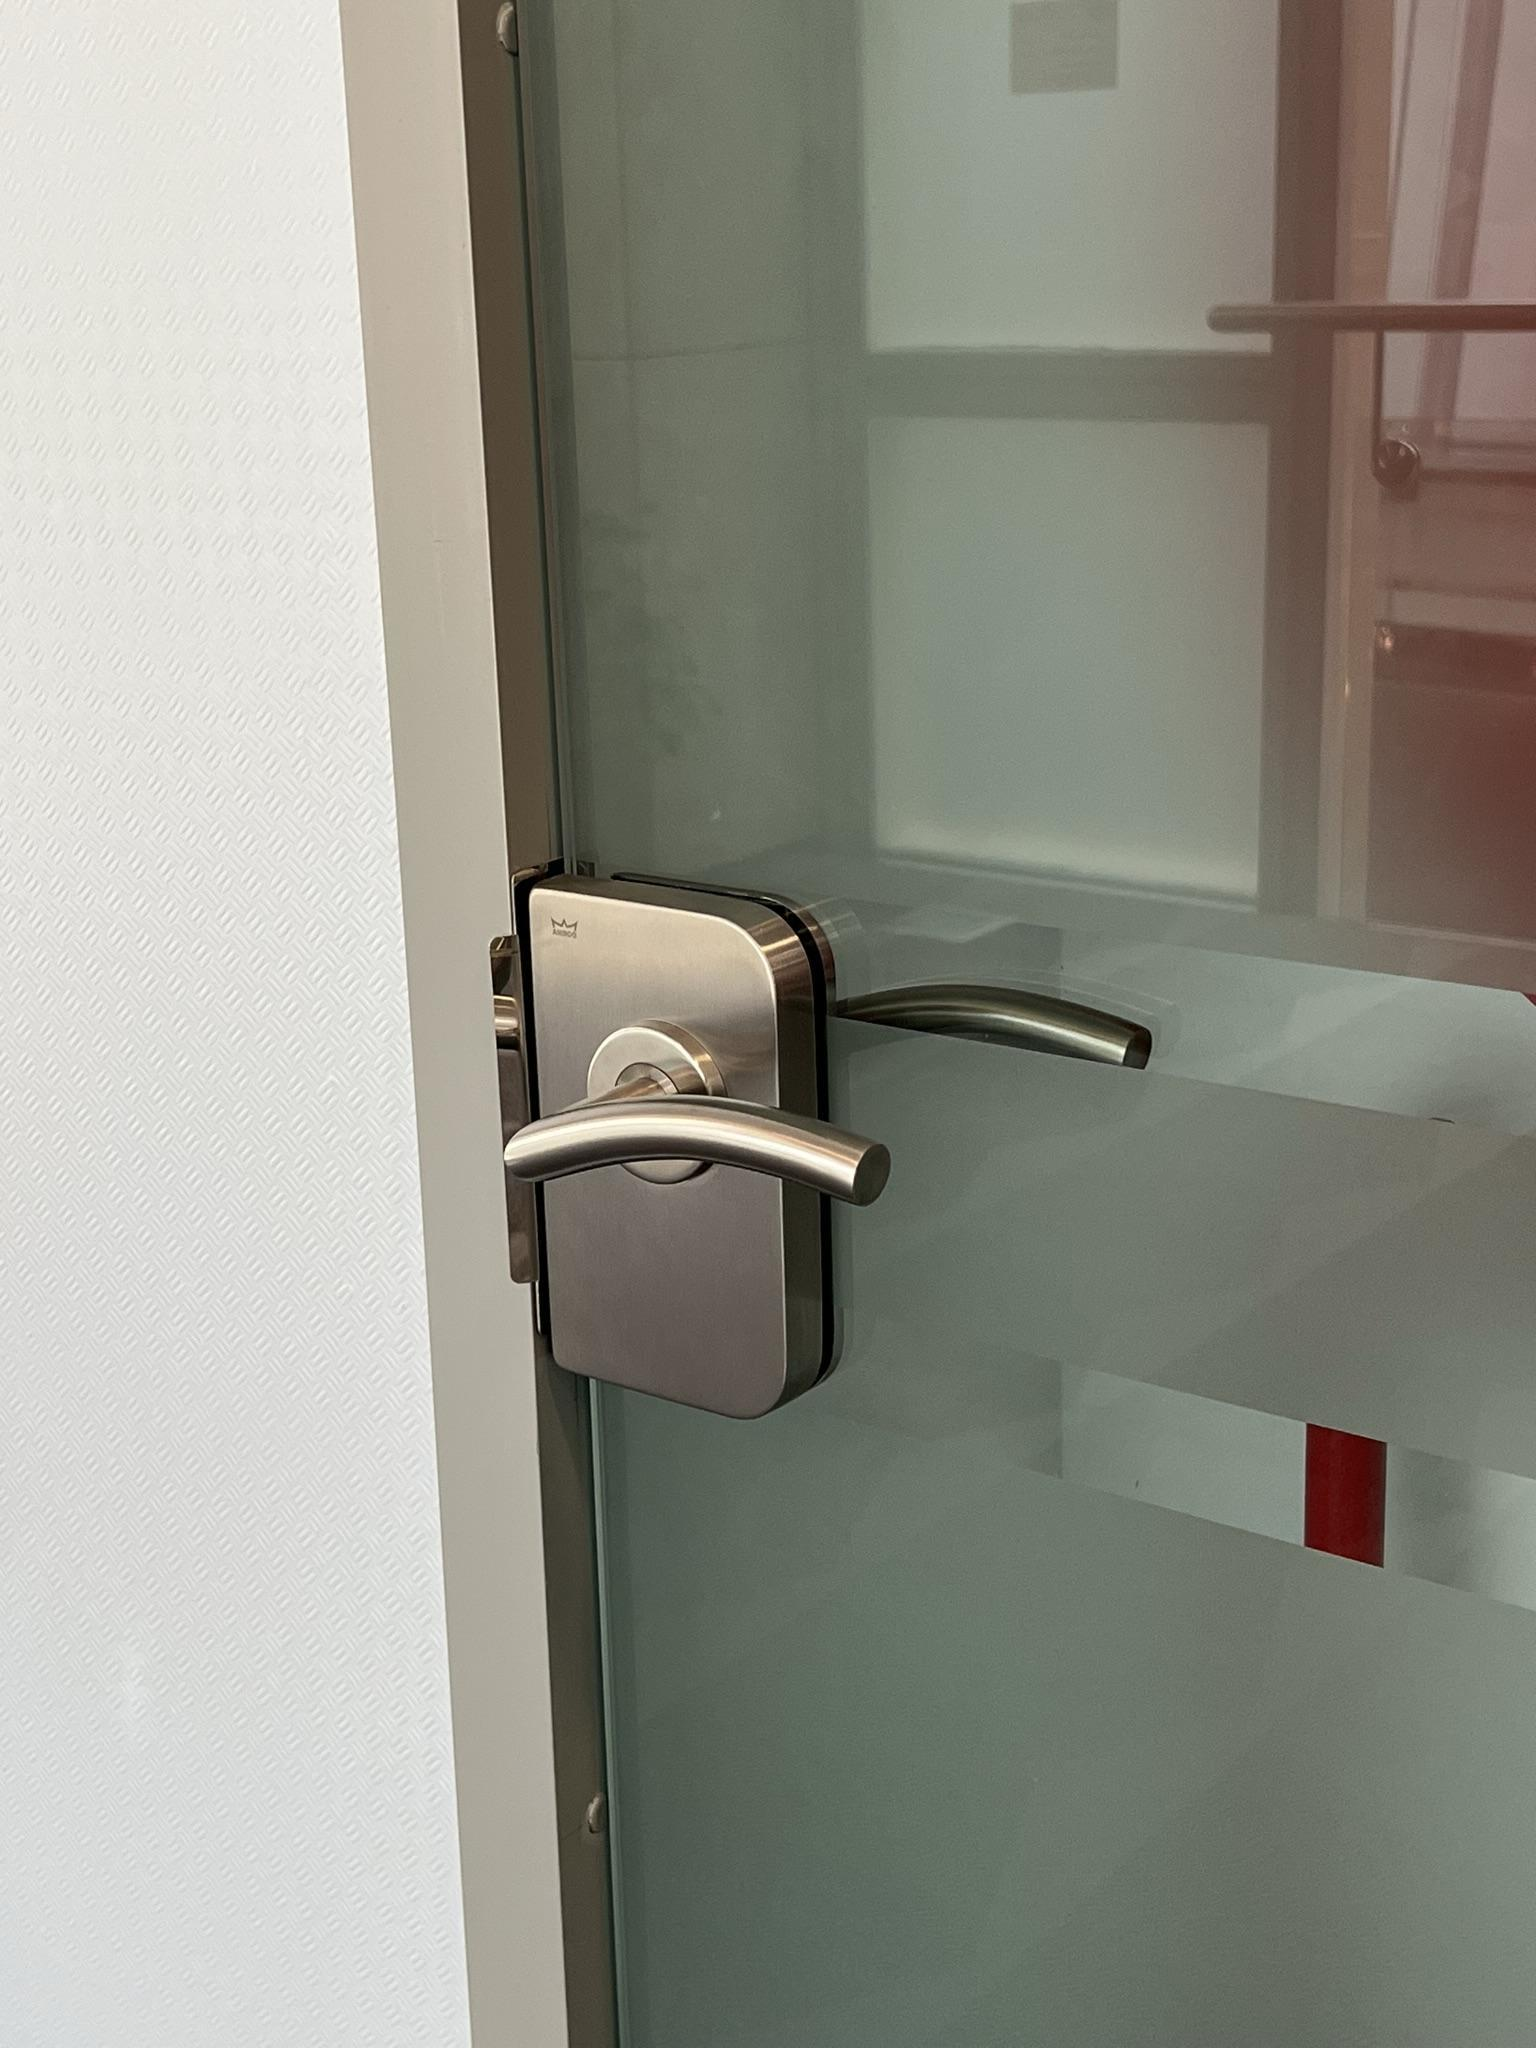handle: (495, 887, 884, 1417)
